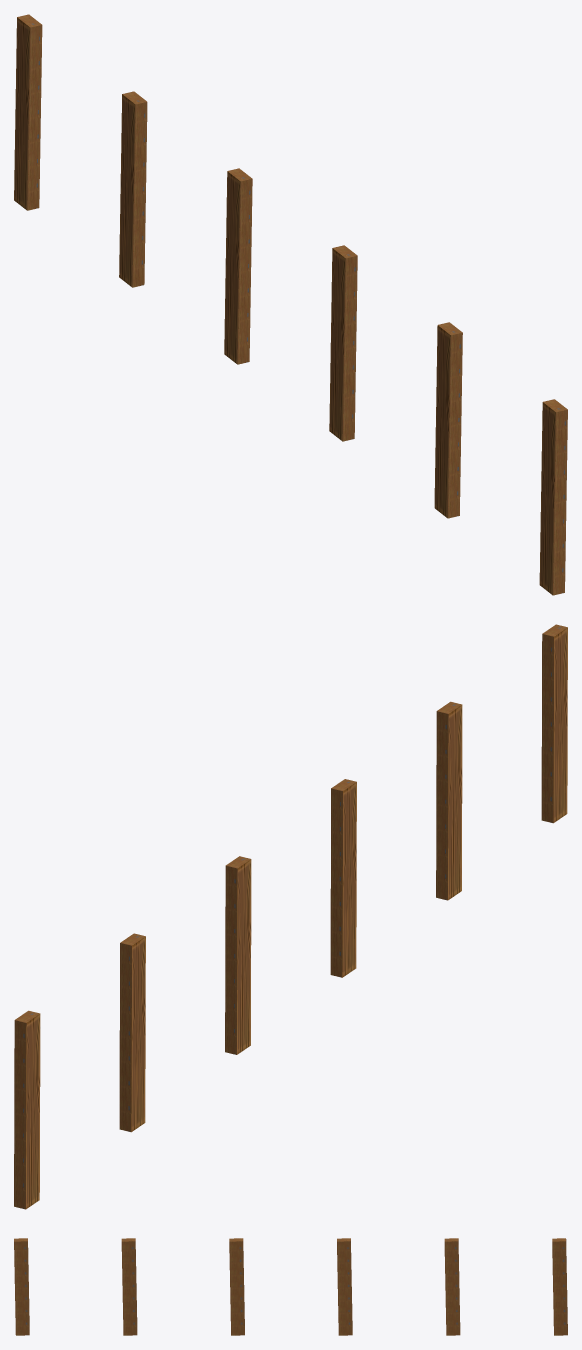
3 views of the same model, one above another, from view 1: azimuth 30°, elevation 25°; view 2: azimuth 150°, elevation 25°; view 3: azimuth 270°, elevation 25° (orthographic). The views are drawn at different scales.
Parts seen in each view (by area): view 1: Cube.774; view 2: Cube.774; view 3: Cube.774.
Part boxes in pixels (x1=…): Cube.774: x1=14, y1=14, x2=567, y2=595; Cube.774: x1=14, y1=624, x2=567, y2=1209; Cube.774: x1=14, y1=1238, x2=567, y2=1335.
Bounding box in the file's own units: 10.86 × 143 × 758.
Materials: 1 (1 with a texture image).
